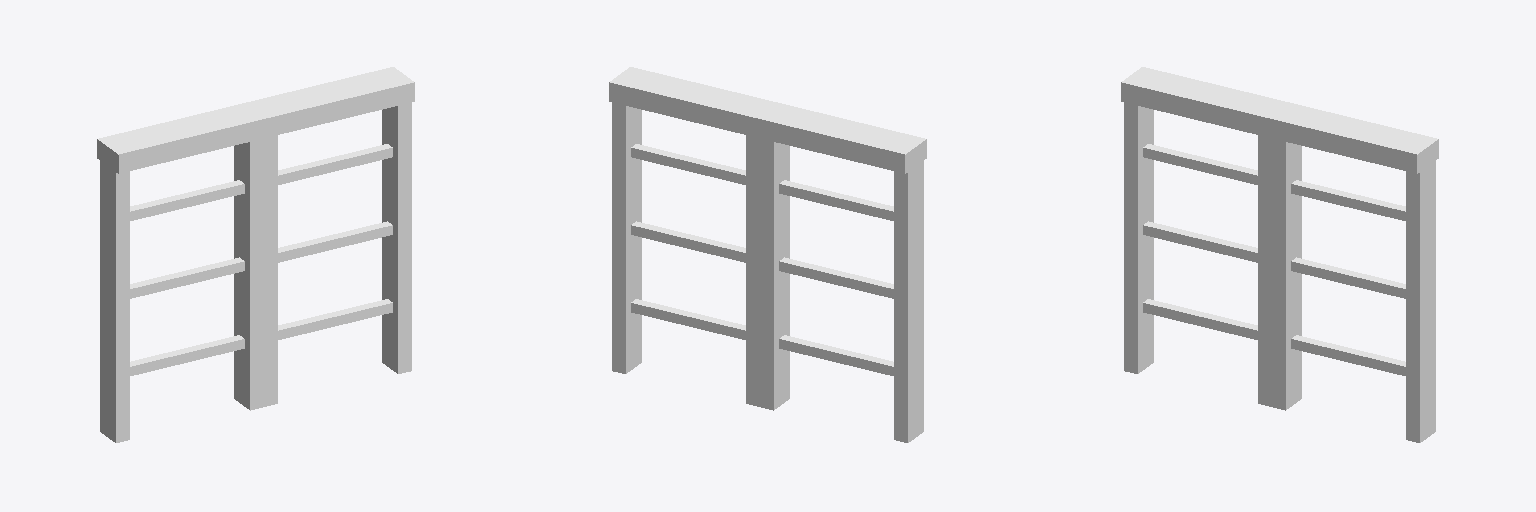
File: Crossbar.obj
3 views of the same model, side by side, from view 1: azimuth 30°, elevation 25°; view 2: azimuth 150°, elevation 25°; view 3: azimuth 330°, elevation 25° (orthographic).
Parts seen in each view (by area): view 1: Crossbar_-3; view 2: Crossbar_-3; view 3: Crossbar_-3.
Part boxes in pixels (bbox=[...]): Crossbar_-3: bbox=[97, 67, 414, 442]; Crossbar_-3: bbox=[609, 67, 926, 442]; Crossbar_-3: bbox=[1121, 67, 1438, 442].
Size of the model in its own units: 1 by 0.9375 by 0.125.